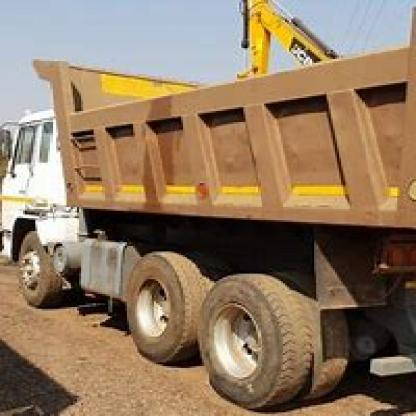dump_truck: (0, 41, 414, 405)
